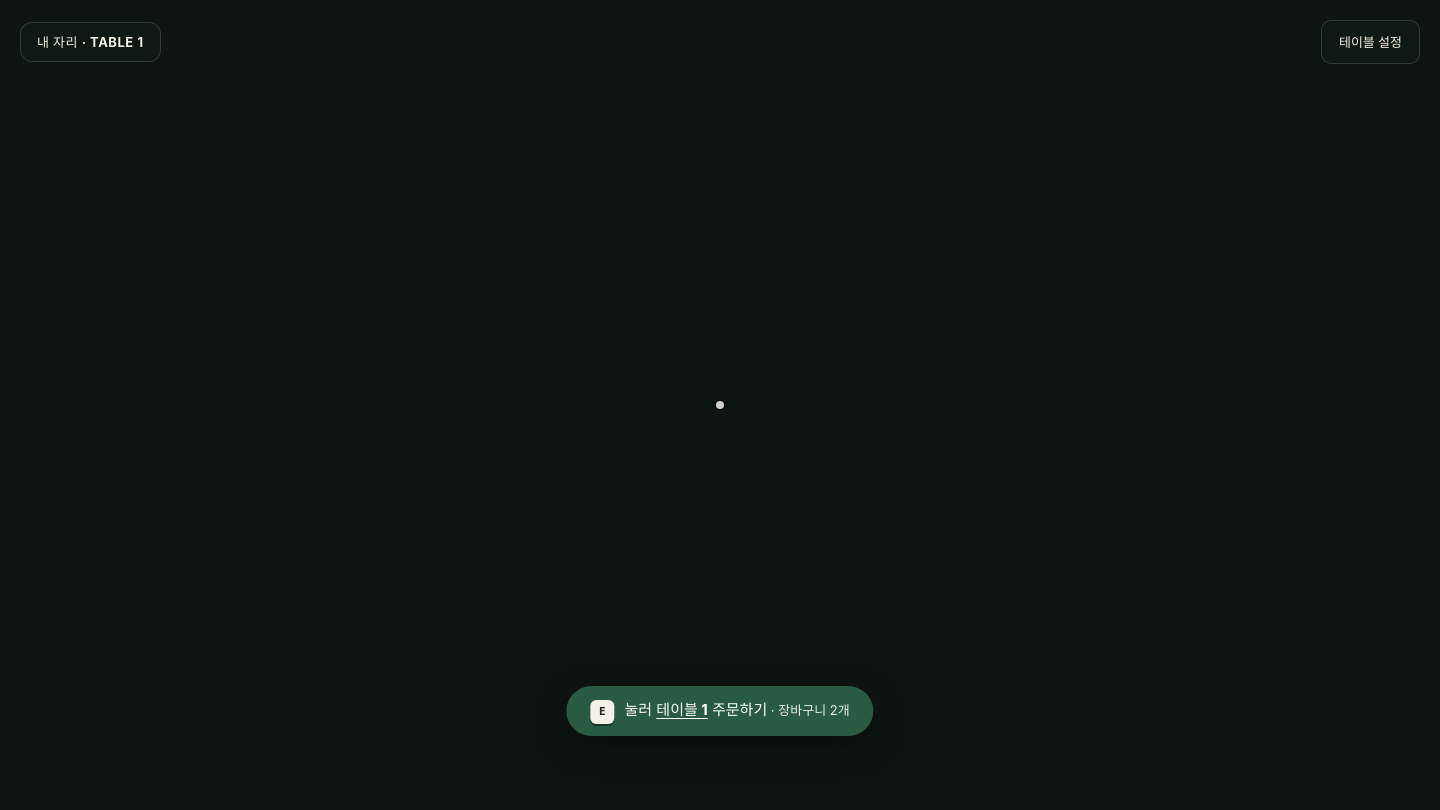
Scenario: posts only menu ids and quantities and clears on success
Press KeyE
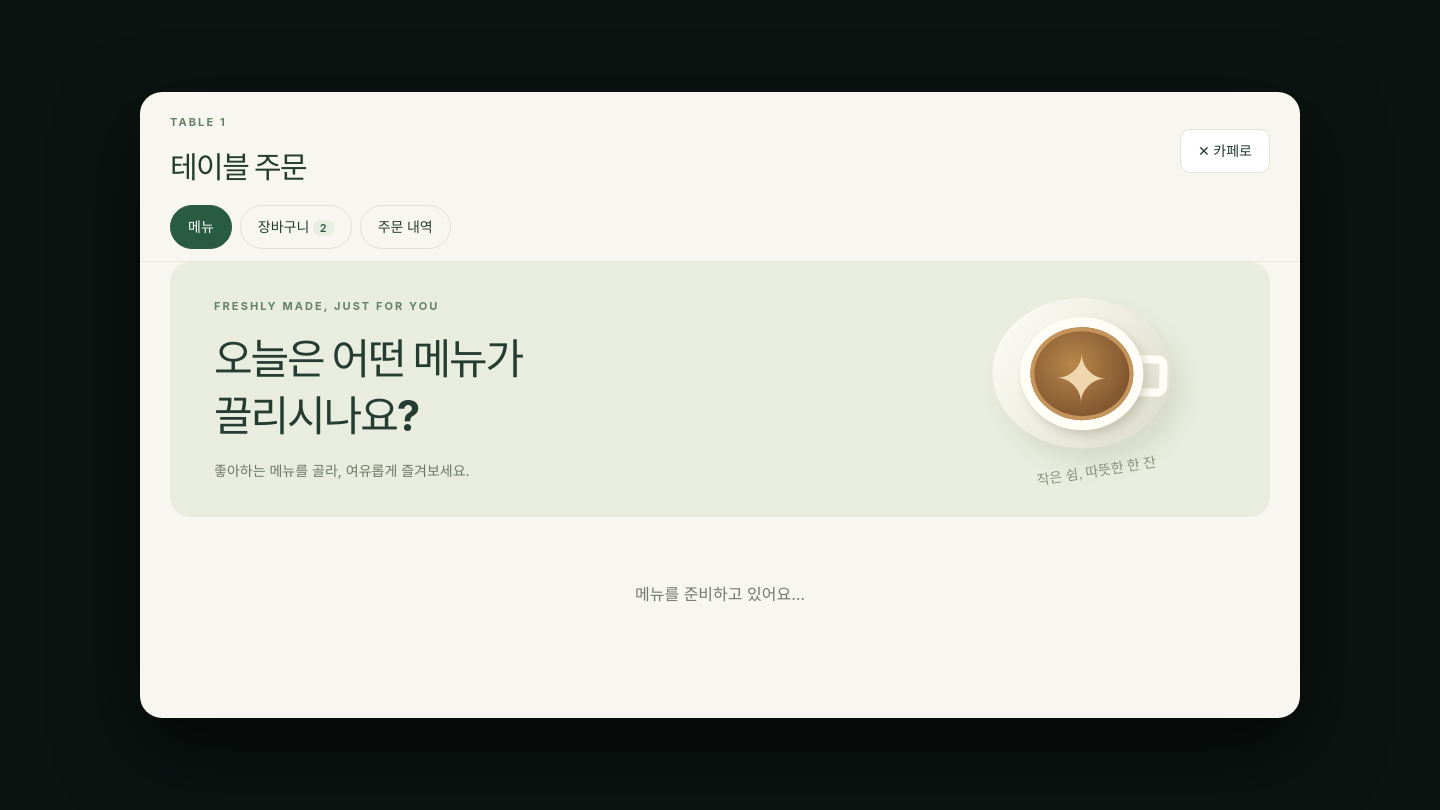
Click the button with test id "tab-cart".
click(296, 227)  # box [240,205,352,249]
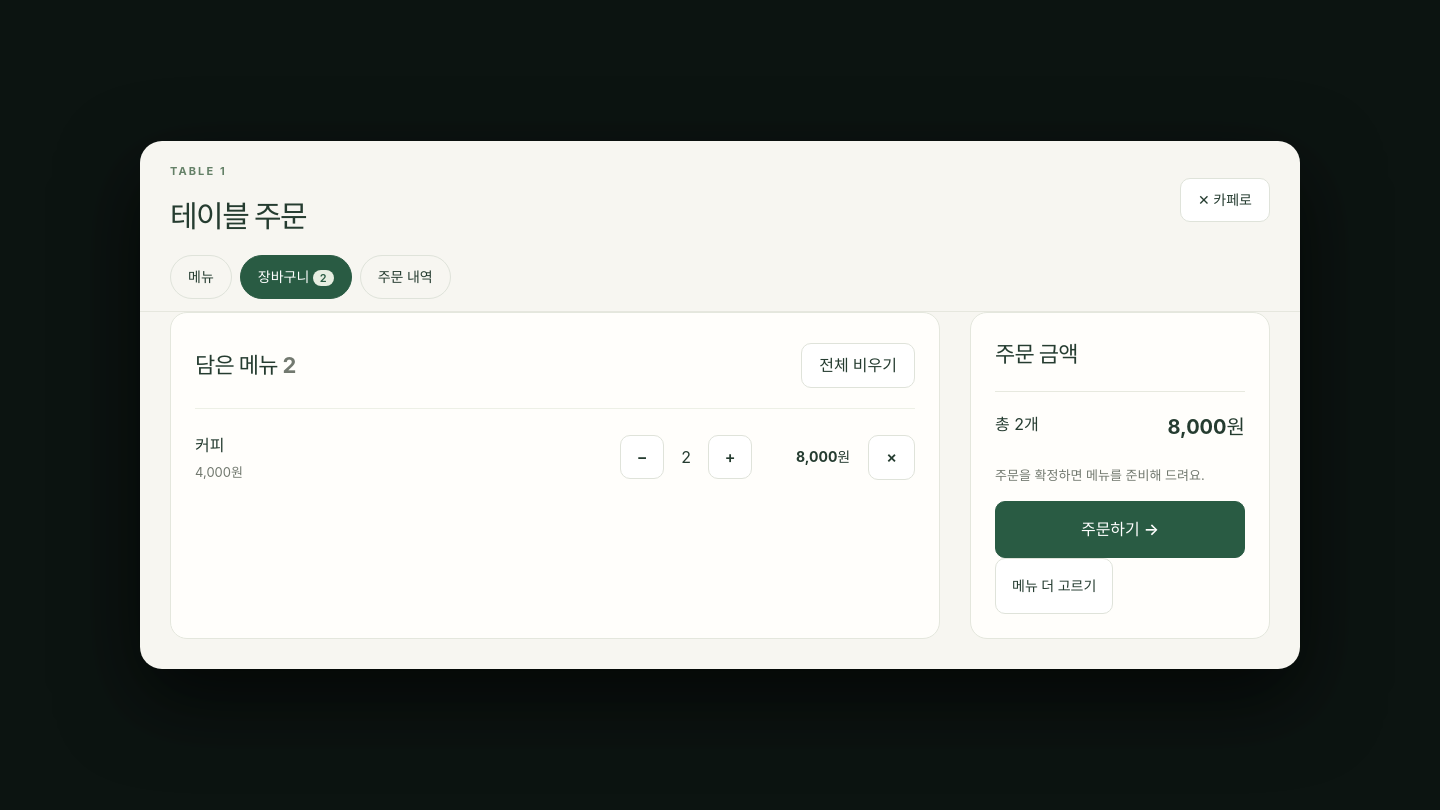
Click the button with test id "cart-checkout-button".
click(1120, 530)  # box [995,501,1245,558]
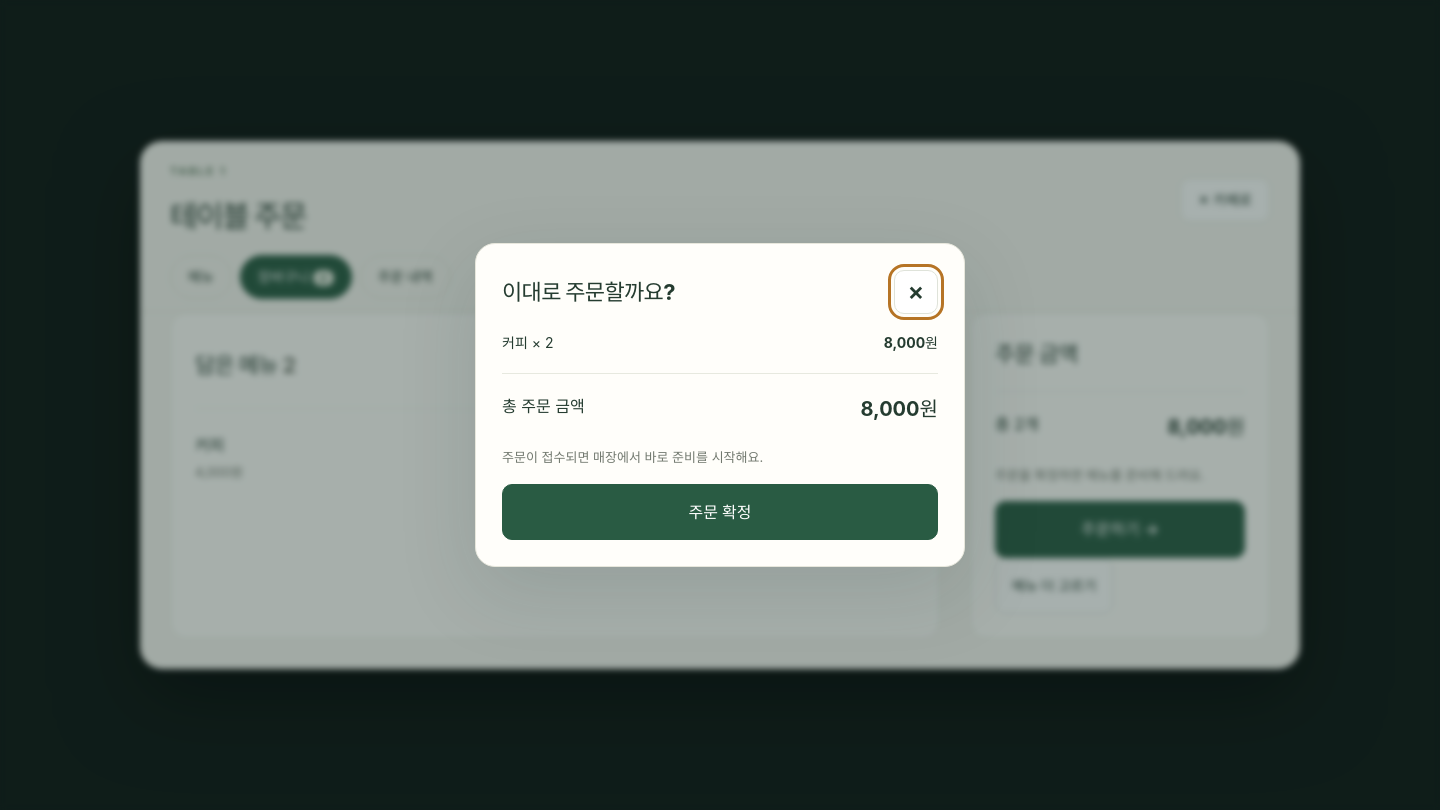
Click the button with test id "order-confirm-submit-button".
click(720, 512)  # box [502,484,938,540]
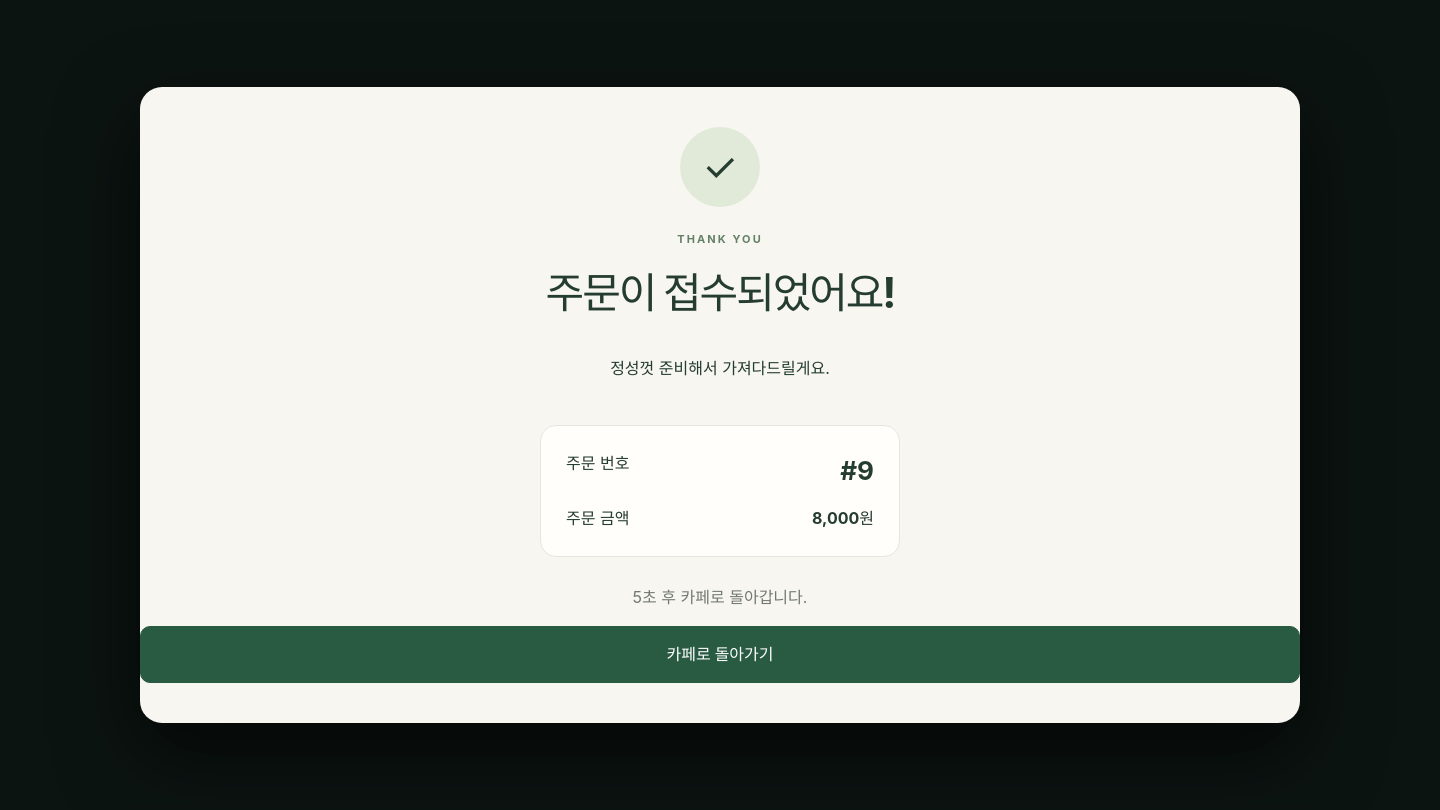
Check: the text with test id "success-order-number" reads "#9", box [840,455,874,486]
